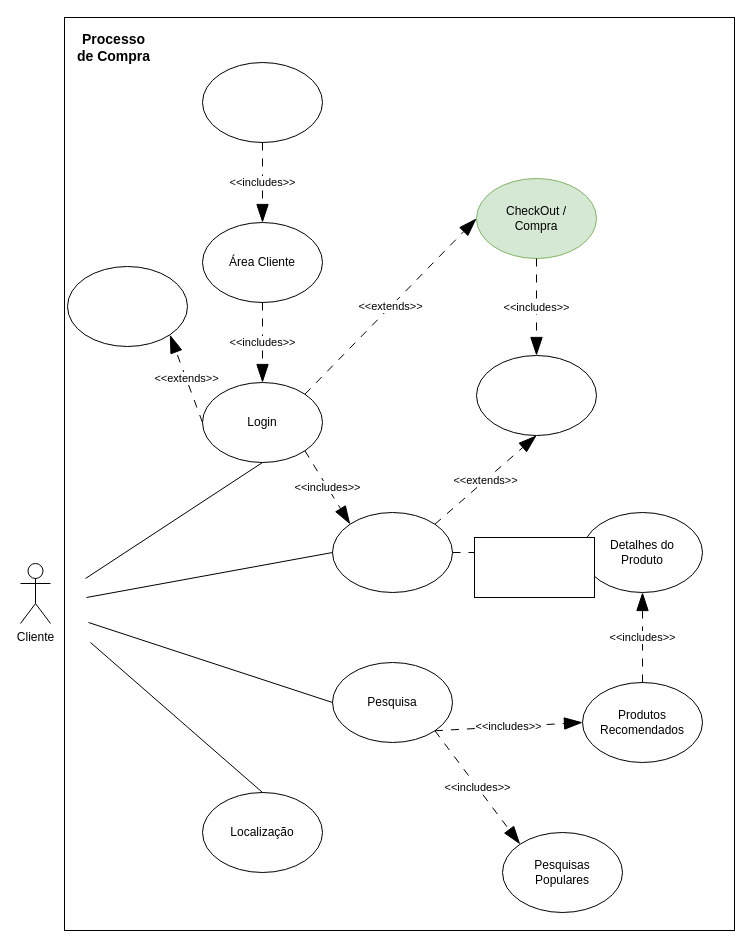
Some shapes in this 752 by 948 pixel diagram are drawn without their labels. The shapes that lost their labels are listed below. From the top down, each one's box as (x1, y1, x2, y2) in pixels, then its label:
(202, 62, 322, 142): Favoritos
(66, 266, 188, 346): Registro
(476, 354, 596, 436): Pagamento
(332, 512, 452, 592): Carrinho
